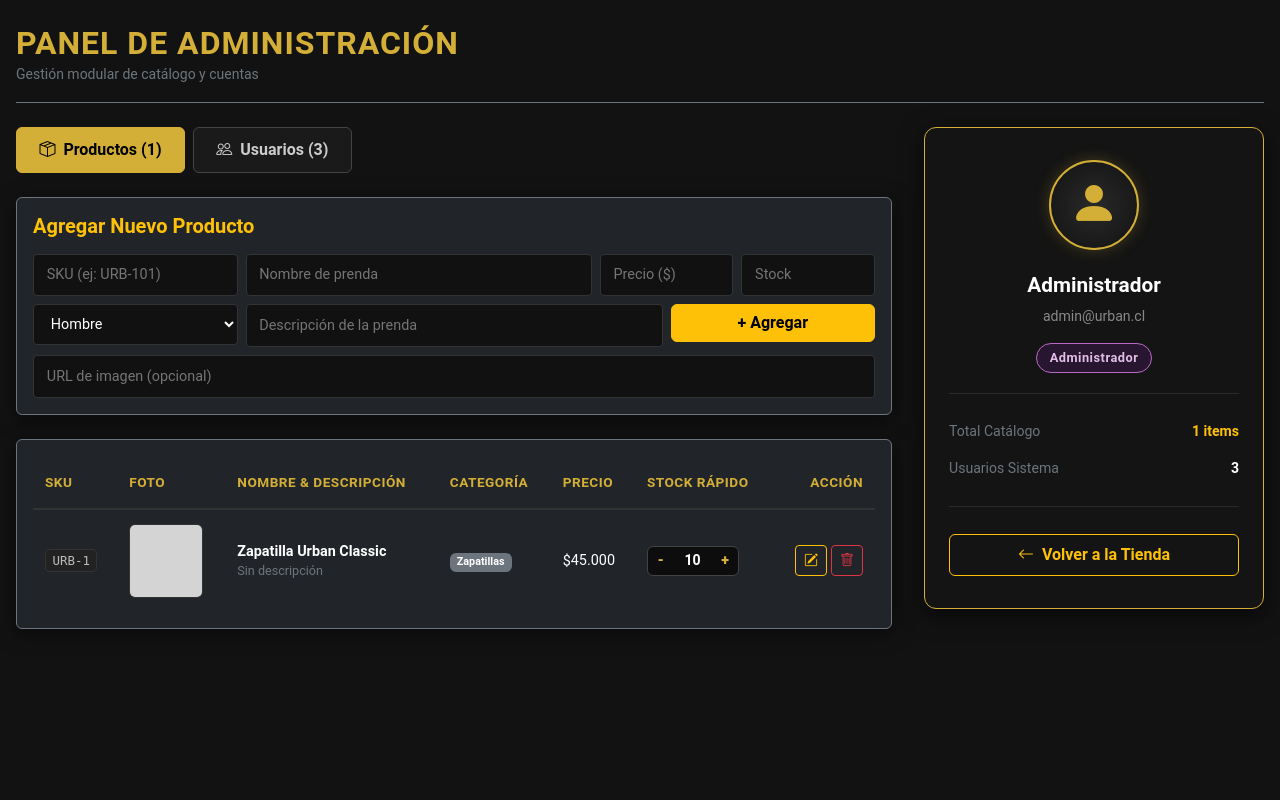
Test: Componente AdminPanel › Modifica e incrementa el stock del producto en la tabla con el control rápido
Click the button "+" at (725, 561), box [712,547,738,575]
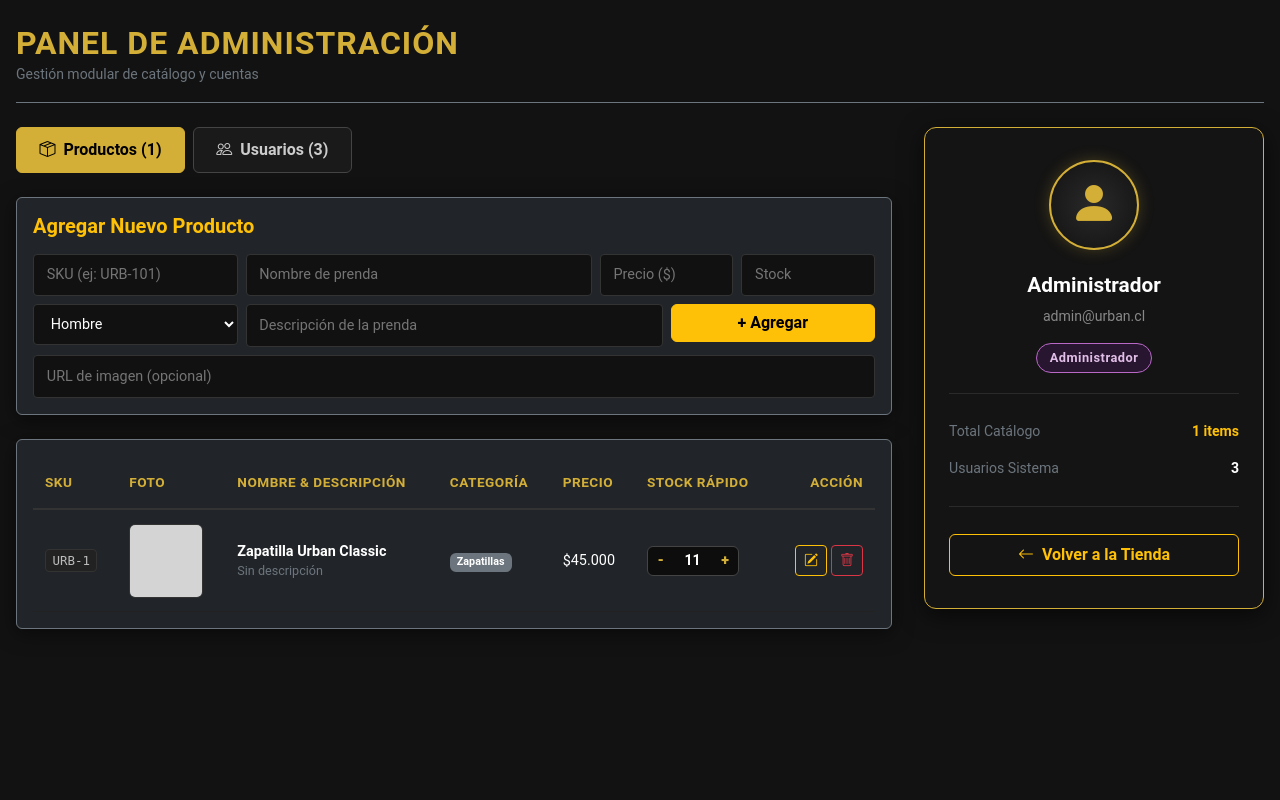
Now the text "11" is shown, box [684,552,701,568]
